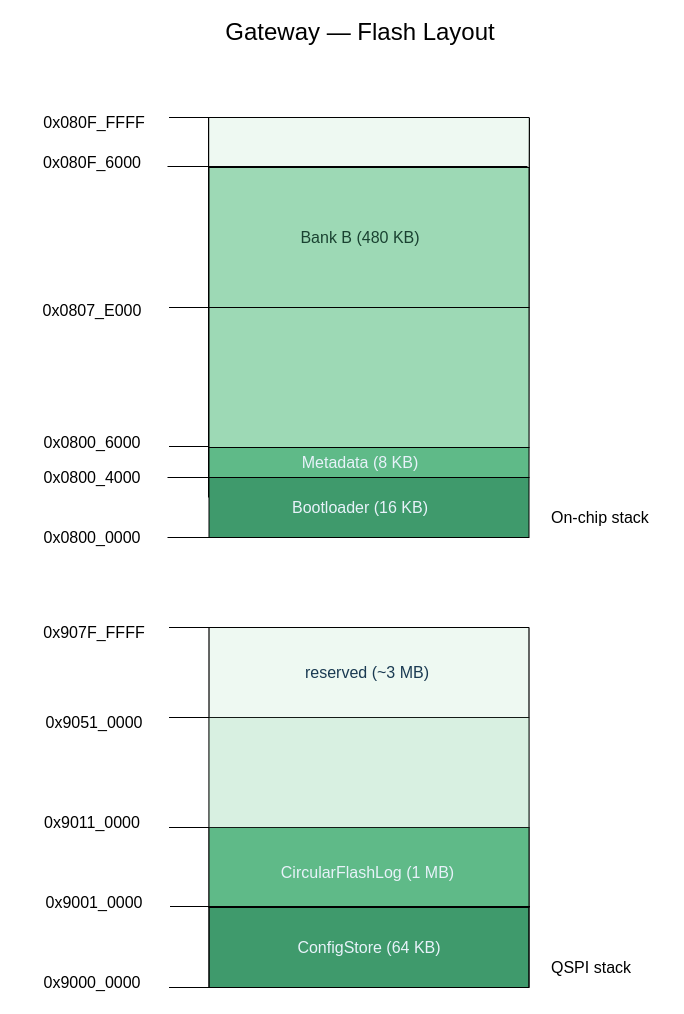
The diagram is 684 pixels wide and 1014 high, and some of its shapes have lost their labels. The centre of each missing label's shape, as x and y in pixels:
Bank A (480 KB) "Active/Inactive": point 368,377
OTA staging (4 MB): point 368,772
reserved (40 KB): point 368,142
